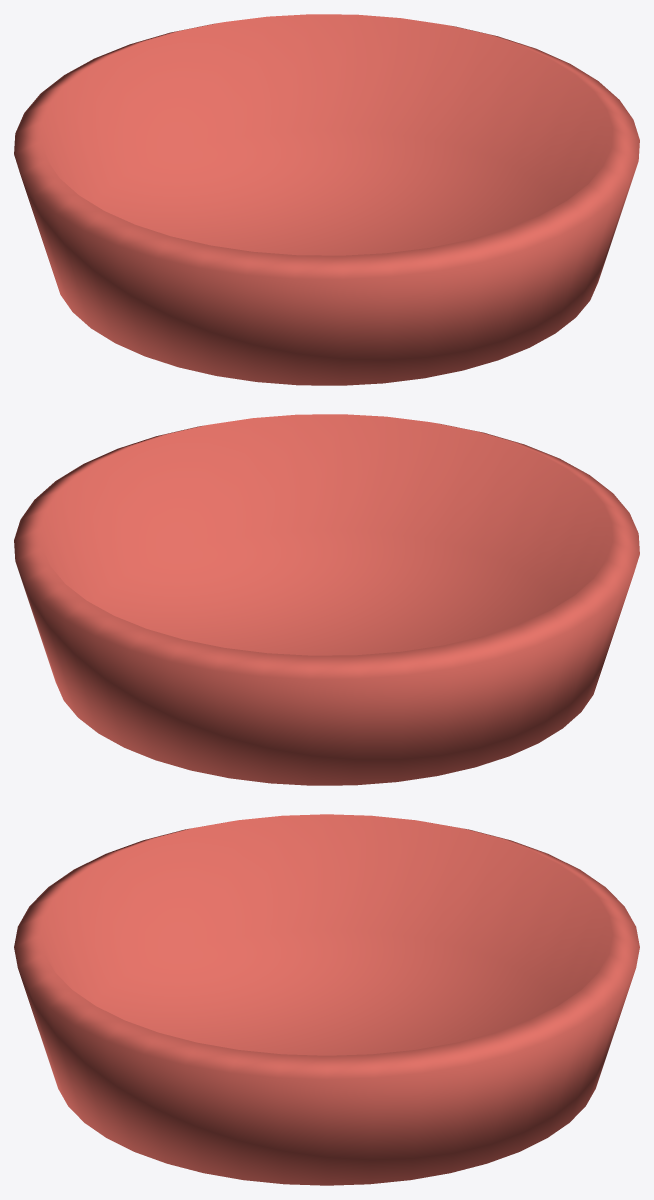
Rendered from milk_bowl.glb.
3 renders of one model, top to bottom at view 1: azimuth 30°, elevation 25°; view 2: azimuth 150°, elevation 25°; view 3: azimuth 270°, elevation 25°, orthographic.
Parts seen in each view (by area): view 1: milk_bowl; view 2: milk_bowl; view 3: milk_bowl.
Boxes of the visible parts, x1,y1,x2,y2 form: milk_bowl: (14,14,639,385); milk_bowl: (14,414,639,785); milk_bowl: (14,814,639,1185).
Size of the model in its own units: 0.92 by 0.24 by 0.92.
